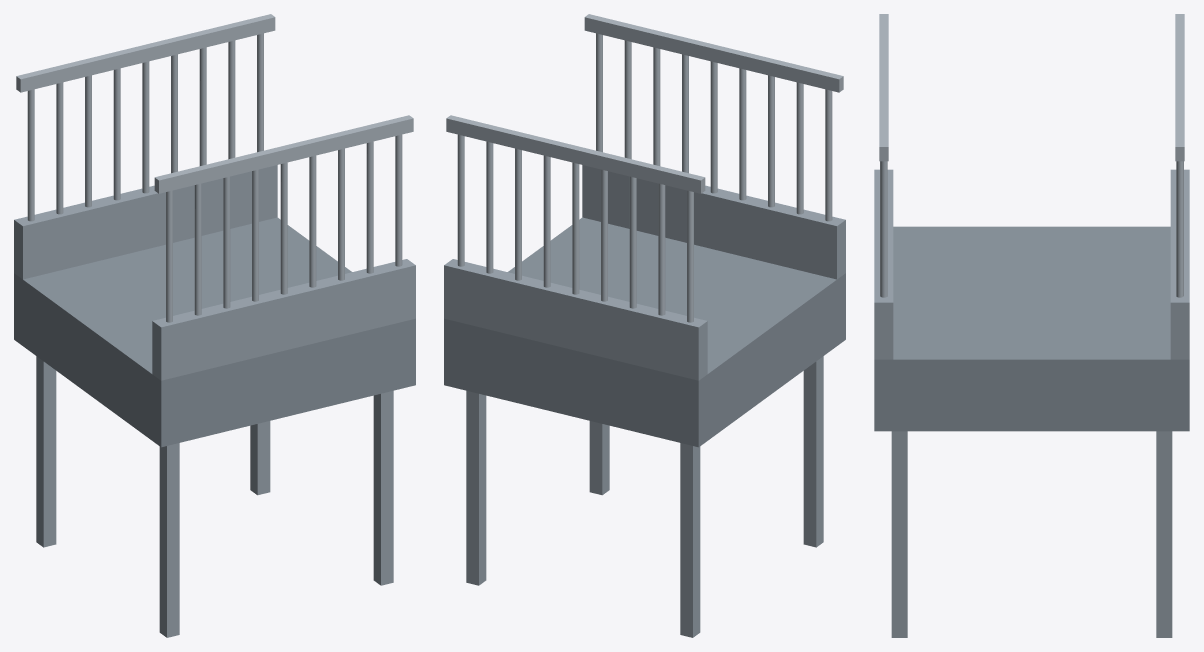
File: library-mezzanine.glb
3 views of the same model, side by side, from view 1: azimuth 30°, elevation 25°; view 2: azimuth 150°, elevation 25°; view 3: azimuth 270°, elevation 25° (orthographic). The views are drawn at different scales.
Visible parts, largest first — view 1: deck, beam_r, beam_l, rail_top_1, rail_top_-1, support_-0.42_0.42, support_0.42_0.42, support_-0.42_-0.42, support_0.42_-0.42, rail_post_-1_1, rail_post_-1_4, rail_post_1_1 (+15 smaller); view 2: deck, beam_l, beam_r, rail_top_-1, rail_top_1, support_-0.42_-0.42, support_0.42_-0.42, support_-0.42_0.42, support_0.42_0.42, rail_post_-1_1, rail_post_-1_4, rail_post_-1_7 (+15 smaller); view 3: deck, support_0.42_-0.42, support_0.42_0.42, beam_l, beam_r, rail_top_-1, rail_top_1, rail_post_-1_8, rail_post_1_8.
Boxes of the visible parts, x1,y1,x2,y2 form: deck: (14, 217, 415, 447); beam_r: (152, 259, 415, 380); beam_l: (14, 165, 277, 279); rail_top_1: (154, 115, 413, 193); rail_top_-1: (16, 14, 275, 92); support_-0.42_0.42: (159, 443, 179, 637); support_0.42_0.42: (373, 390, 393, 585); support_-0.42_-0.42: (36, 356, 56, 547); support_0.42_-0.42: (250, 421, 270, 495); rail_post_-1_1: (56, 82, 63, 214); rail_post_-1_4: (142, 61, 149, 193); rail_post_1_1: (194, 183, 201, 315); deck: (444, 217, 845, 447); beam_l: (444, 259, 707, 380); beam_r: (582, 165, 845, 279); rail_top_-1: (446, 115, 705, 193); rail_top_1: (584, 14, 843, 92); support_-0.42_-0.42: (680, 443, 700, 637); support_0.42_-0.42: (466, 390, 486, 585); support_-0.42_0.42: (803, 356, 823, 547); support_0.42_0.42: (589, 421, 609, 495); rail_post_-1_1: (658, 183, 665, 315); rail_post_-1_4: (572, 162, 579, 294); rail_post_-1_7: (486, 141, 493, 273); deck: (874, 226, 1189, 431); support_0.42_-0.42: (1156, 431, 1172, 637); support_0.42_0.42: (891, 431, 907, 637); beam_l: (1170, 169, 1189, 359); beam_r: (874, 169, 893, 359); rail_top_-1: (1175, 14, 1184, 161); rail_top_1: (879, 14, 888, 161); rail_post_-1_8: (1176, 161, 1183, 297); rail_post_1_8: (880, 161, 887, 297).
Bounding box in the file's own units: 1 × 1.74 × 1.
